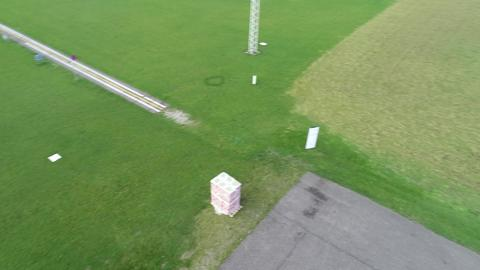RockwoolPallet: (210, 171, 243, 216)
